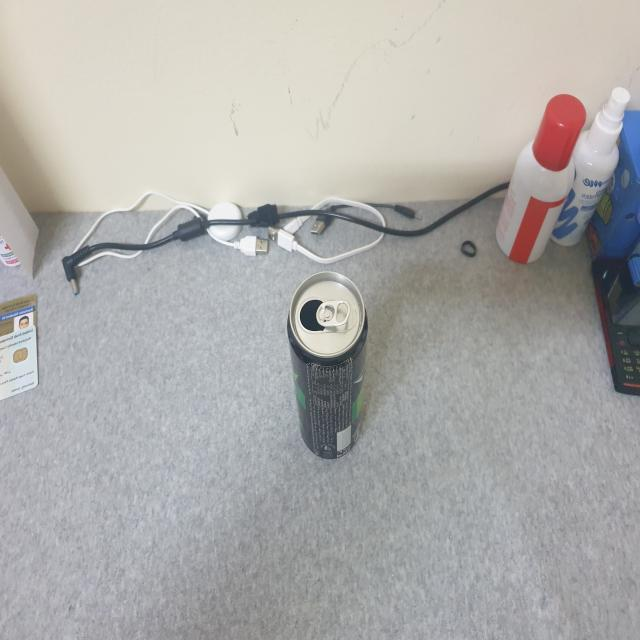can: (260, 266, 382, 477)
